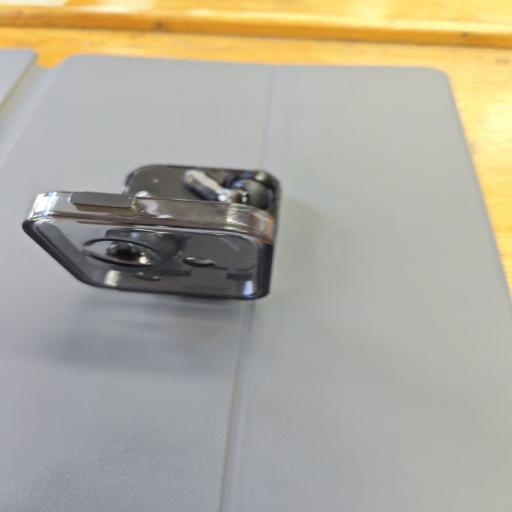CASTI: (15, 161, 285, 305)
